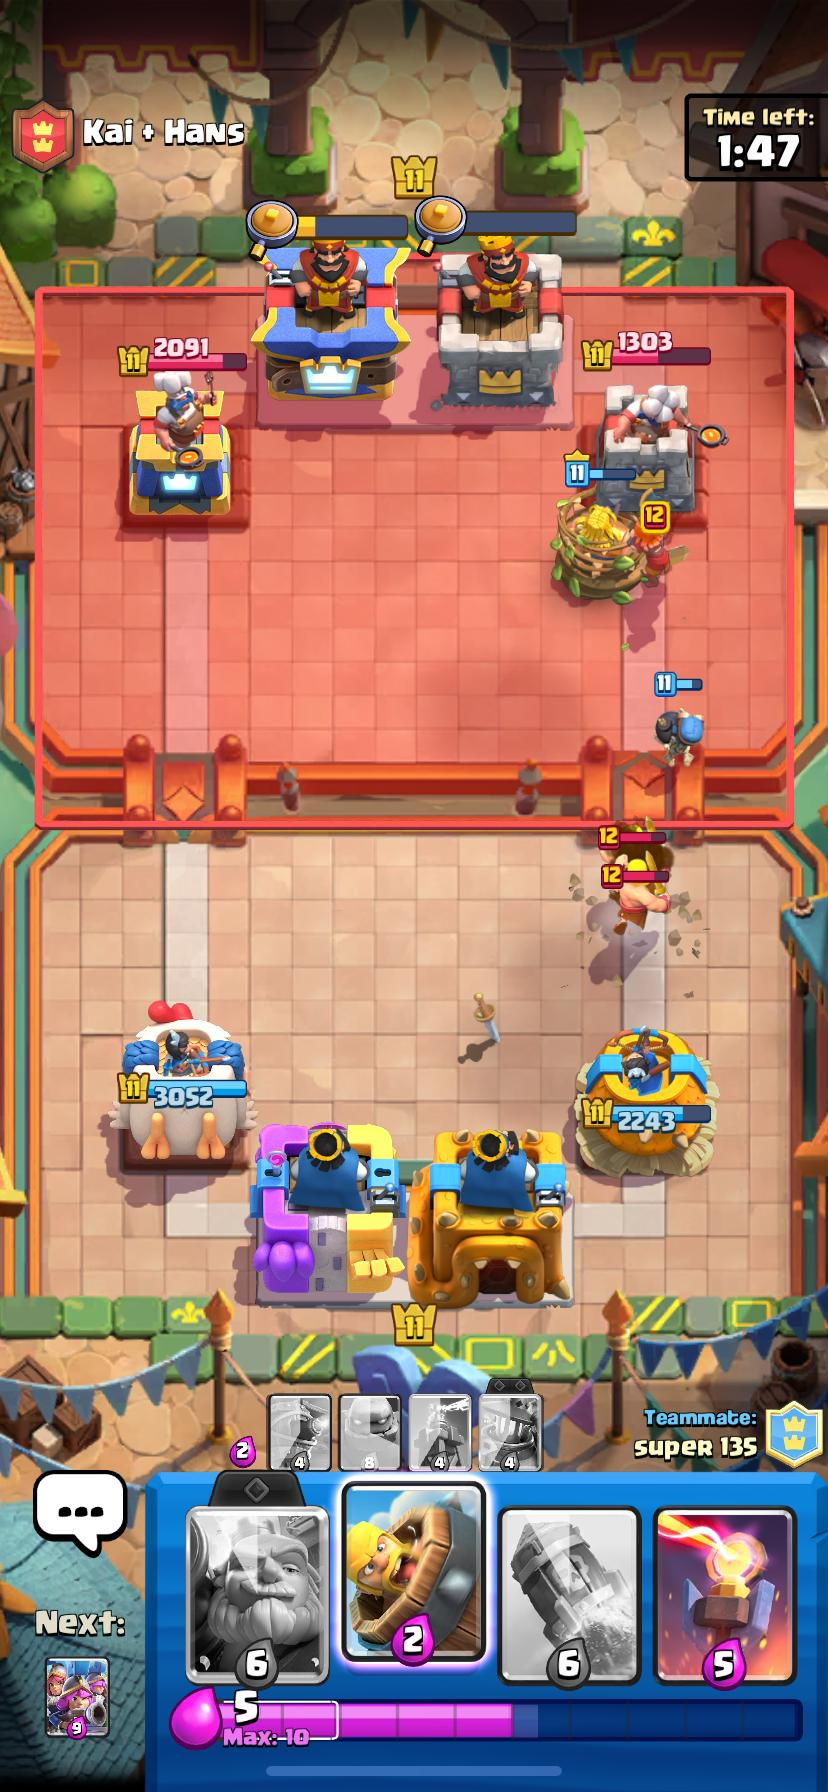EBarb: (602, 859, 670, 934)
EKingTower: (250, 234, 411, 399), (438, 251, 563, 407)
EValk: (635, 521, 672, 585)
EnemyPanTower: (130, 374, 229, 515), (597, 385, 695, 512)
OBomber: (655, 709, 702, 766)
OwnKingTower: (408, 1129, 571, 1306), (252, 1123, 403, 1303)
OwnPrincessTower: (109, 1002, 255, 1160), (576, 1029, 716, 1175)
